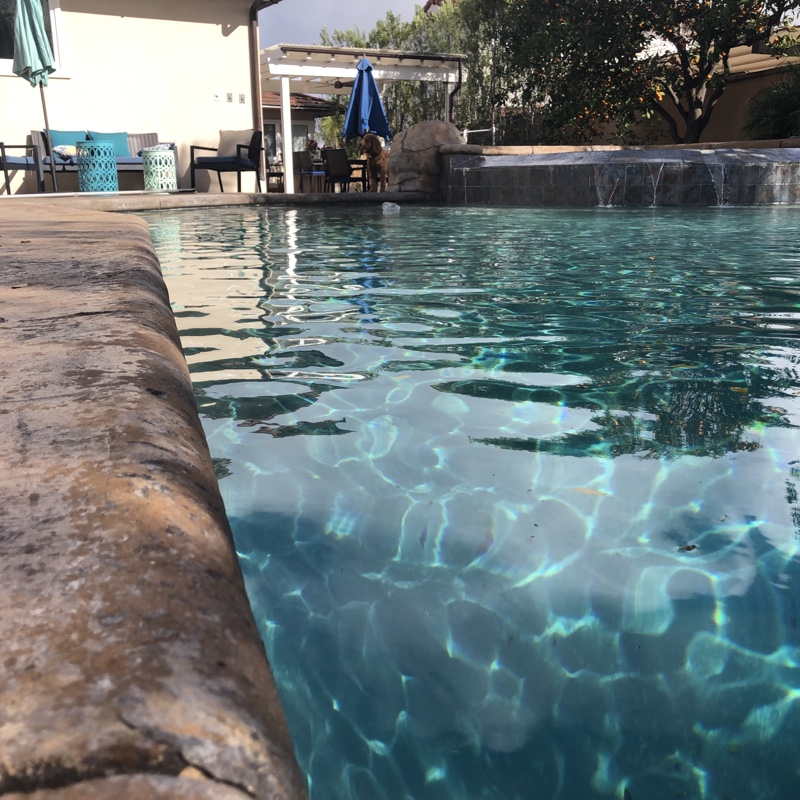Plastic Bottle: (380, 200, 404, 217)
